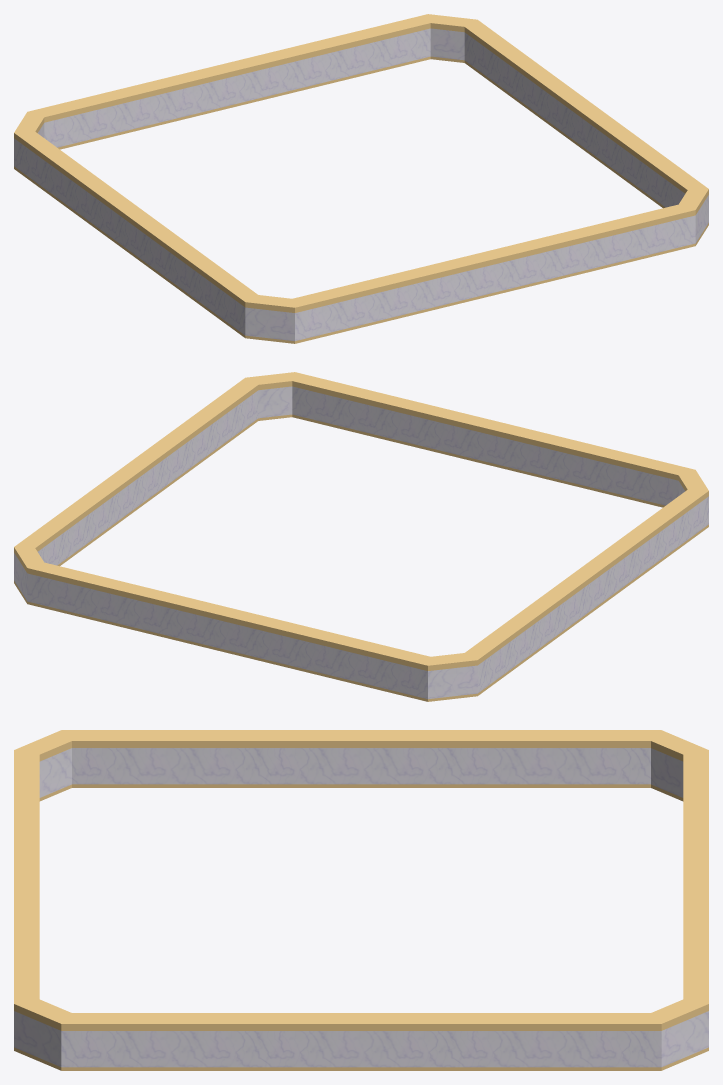
File: StartShaftTop.gltf
3 renders of one model, top to bottom at view 1: azimuth 30°, elevation 25°; view 2: azimuth 150°, elevation 25°; view 3: azimuth 270°, elevation 25°, orthographic. The views are drawn at different scales.
Visible parts, largest first — view 1: StartShaftTop; view 2: StartShaftTop; view 3: StartShaftTop.
Part boxes in pixels (<box>): StartShaftTop: <box>14,14,708,343</box>; StartShaftTop: <box>14,372,708,701</box>; StartShaftTop: <box>14,730,708,1070</box>.
Bounding box in the file's own units: 21.6 × 1.61 × 21.6.
2 materials, 1 textured.
